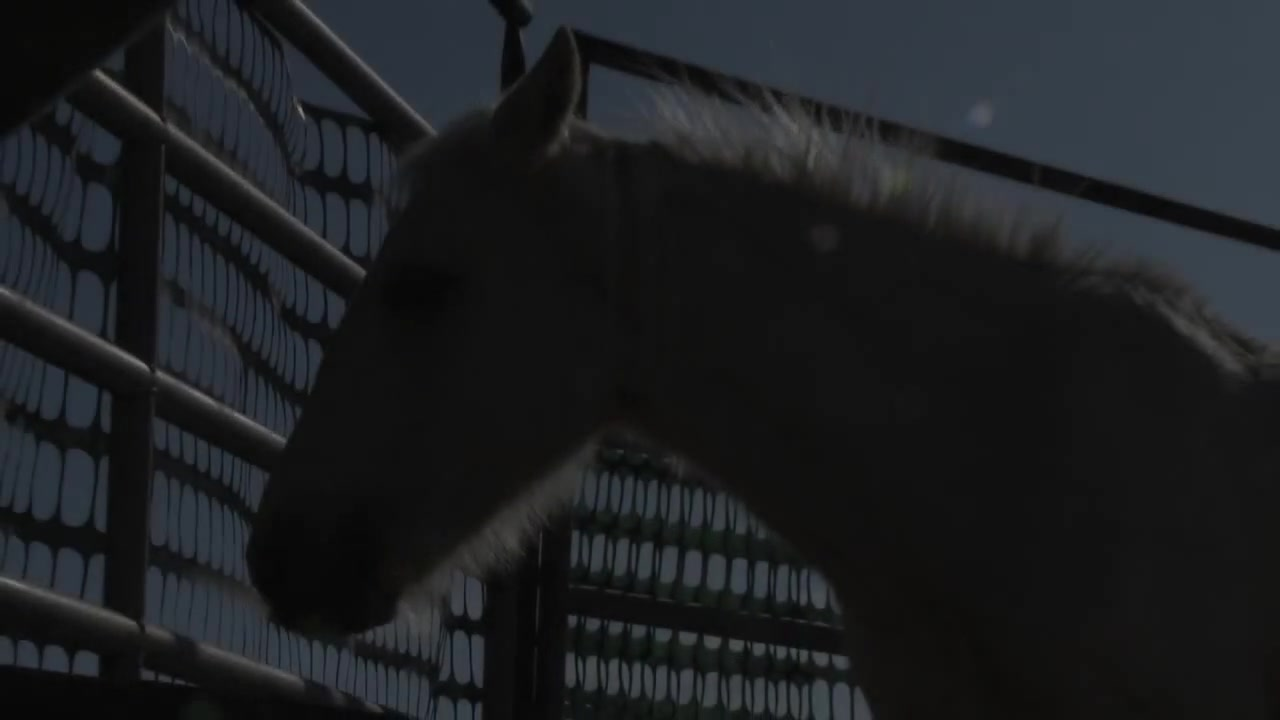horse: (244, 27, 1280, 720)
